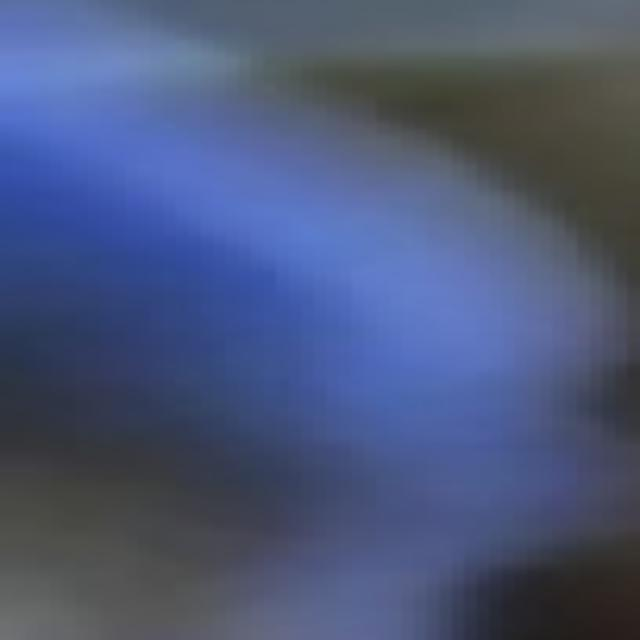fish: (12, 4, 640, 639)
